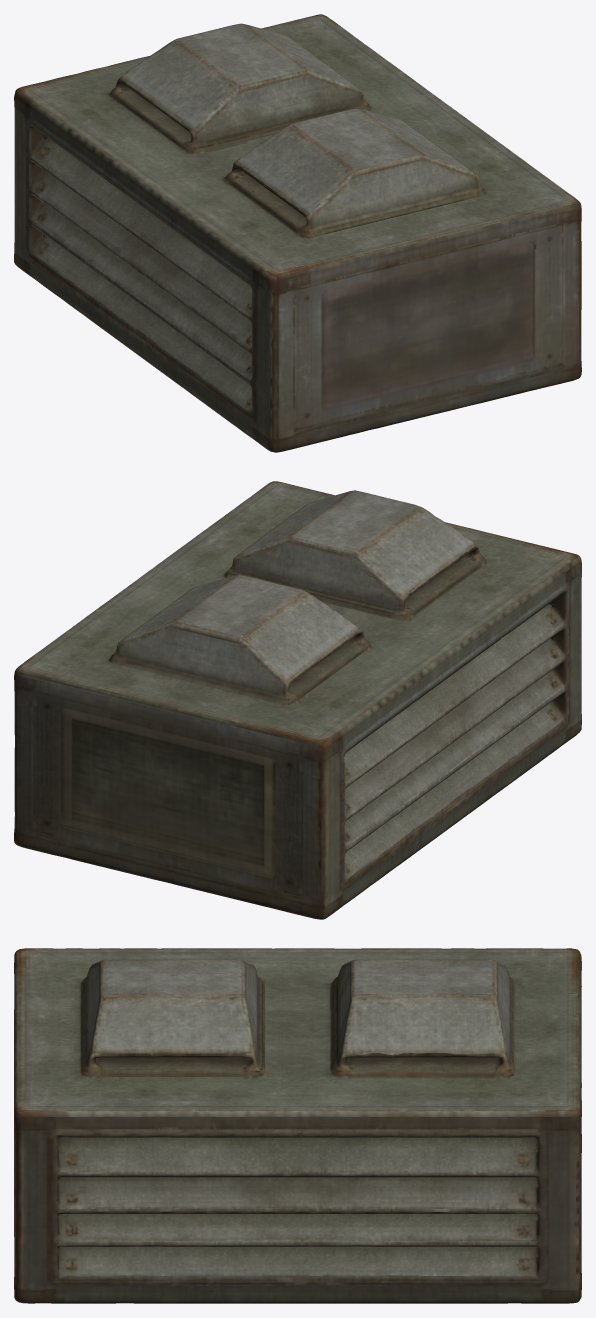
File: shelter_roof_air_handler.glb
The picture shows the model from 3 angles, top to bottom: view 1: azimuth 30°, elevation 25°; view 2: azimuth 150°, elevation 25°; view 3: azimuth 270°, elevation 25°; orthographic projection. The views are drawn at different scales.
Size of the model in its own units: 0.7057 by 0.4831 by 1.01.
1 material, 1 textured.
